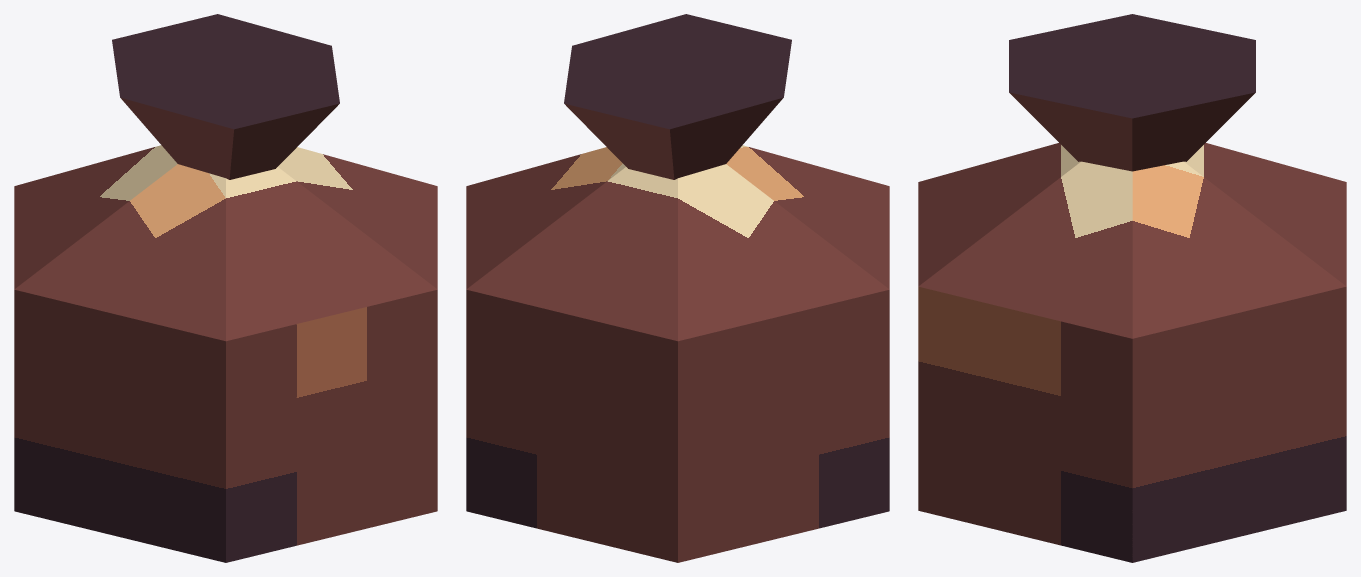
File: Bag.gltf
3 views of the same model, side by side, from view 1: azimuth 30°, elevation 25°; view 2: azimuth 150°, elevation 25°; view 3: azimuth 270°, elevation 25° (orthographic).
Visible parts, largest first — view 1: cone; view 2: cone; view 3: cone.
Part boxes in pixels (left/top/right/bottom): cone: left=14, top=14, right=437, bottom=562; cone: left=466, top=14, right=889, bottom=562; cone: left=918, top=14, right=1346, bottom=562.
Size of the model in its own units: 0.375 by 0.3906 by 0.3248.
1 material, 1 textured.
